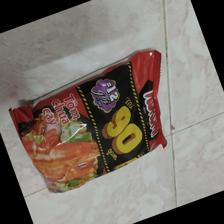Kokomi: (8, 51, 169, 192)
